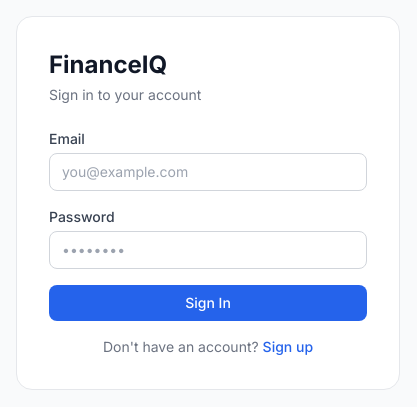
Test: LoginPage › toggles back to sign-in from sign-up
Click the button "Sign up": (288, 347) [263,337,313,357]
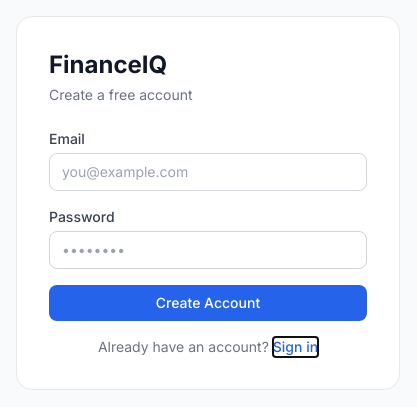
Click the button "Sign in": (296, 347) [273,337,318,357]
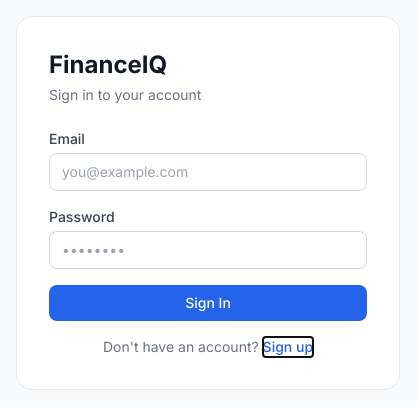
Now the button "Sign In" is shown, box [49,285,367,321]
